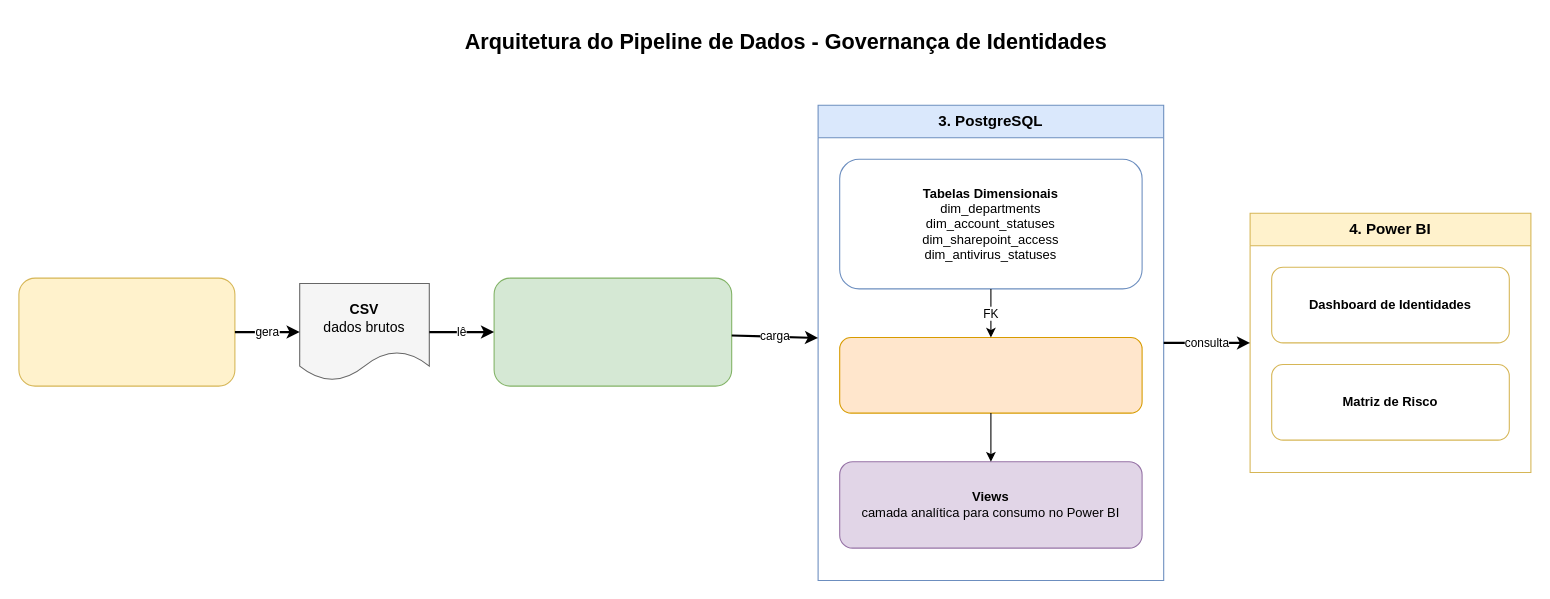
Image size: 1550x599. Some labels were removed from this diagram. The shapes that lost their labels are listed below. From the top down, each one's box as (x1, y1, x2, y2) in pixels, then its label:
(18, 277, 235, 386): 1. Geração de Dados Sintéticos governance_pipeline.py
(493, 277, 732, 386): 2. Limpeza e Modelagem governance_pipeline_ac2.py
(839, 336, 1142, 413): Tabela Fato fact_user_security_audits
